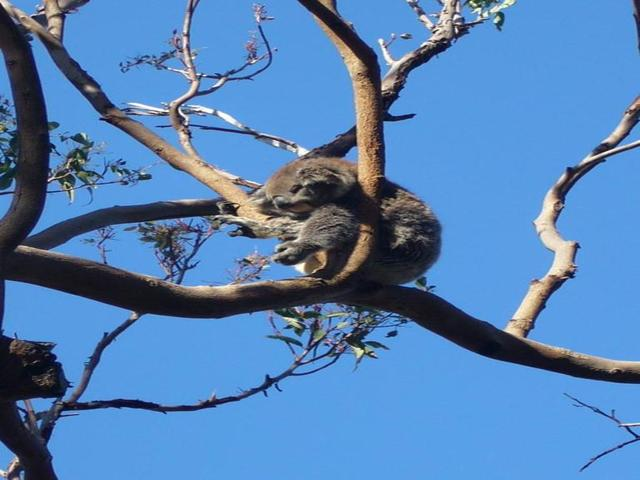monkey: (245, 140, 353, 226)
